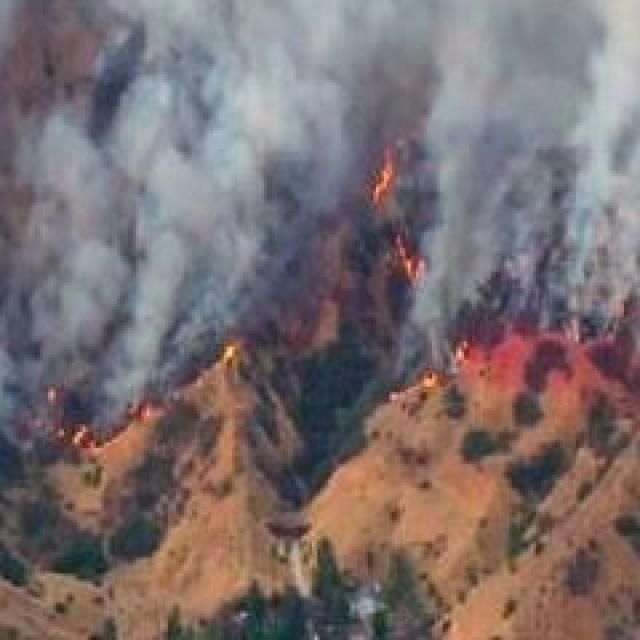Fire: (364, 144, 414, 210), (52, 420, 106, 455), (391, 242, 436, 278), (403, 372, 448, 393), (130, 407, 178, 425), (448, 343, 476, 366)
Smoke: (0, 0, 640, 364)
